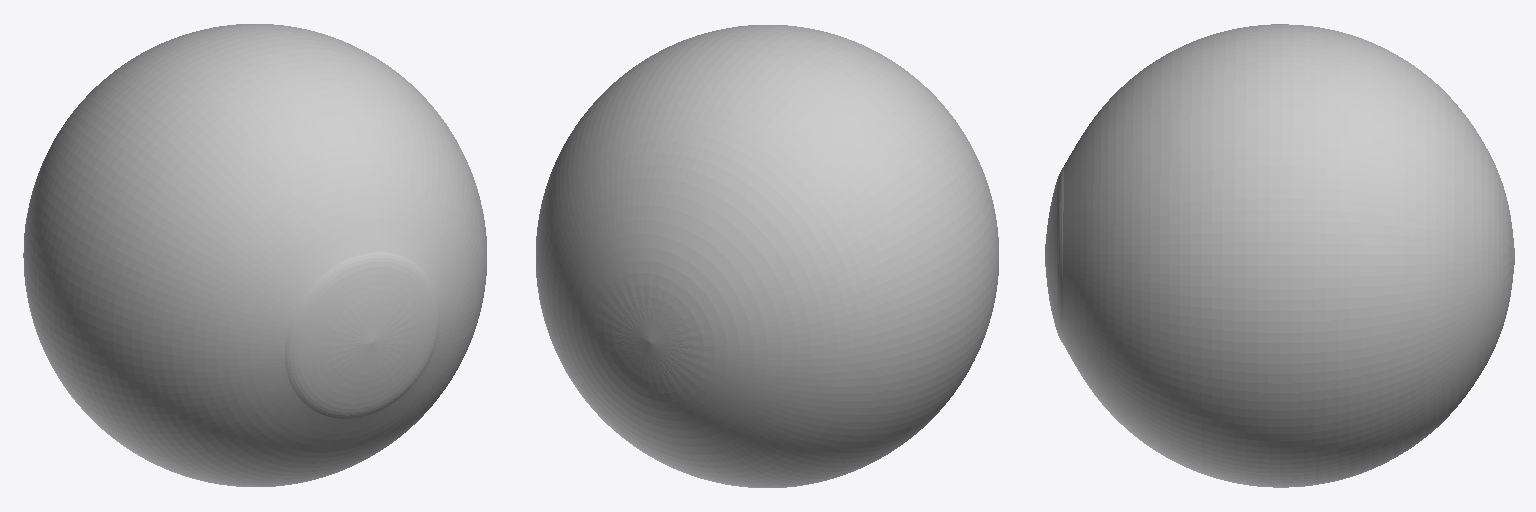
The model's file is eyeball.obj.
3 views of the same model, side by side, from view 1: azimuth 30°, elevation 25°; view 2: azimuth 150°, elevation 25°; view 3: azimuth 270°, elevation 25° (orthographic).
Parts seen in each view (by area): view 1: eyeball_1_eye_1, eyeball_1.003_eye_1.003; view 2: eyeball_1_eye_1; view 3: eyeball_1_eye_1, eyeball_1.003_eye_1.003.
Boxes of the visible parts, box(x1,y1,x2,y2) form: eyeball_1_eye_1: box(23, 24, 486, 486); eyeball_1.003_eye_1.003: box(285, 252, 439, 418); eyeball_1_eye_1: box(536, 25, 998, 487); eyeball_1_eye_1: box(1063, 24, 1514, 487); eyeball_1.003_eye_1.003: box(1045, 167, 1063, 344).
Bounding box in the file's own units: 3.86 × 3.86 × 3.92.